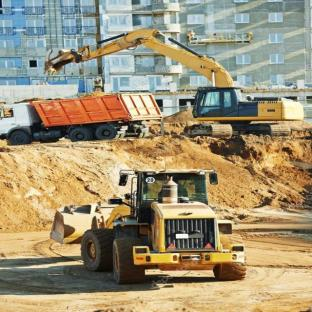ExcavationMachinery: (33, 25, 299, 148)
Vehicle: (1, 88, 162, 148)
